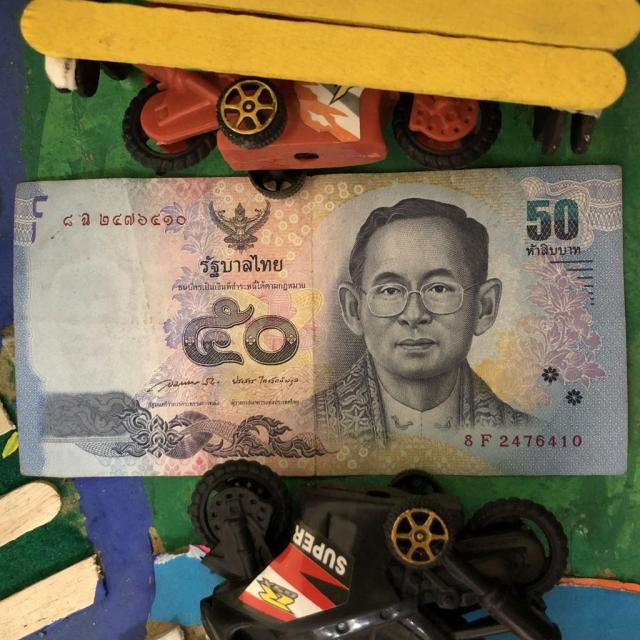THAI50: (14, 166, 627, 477)
